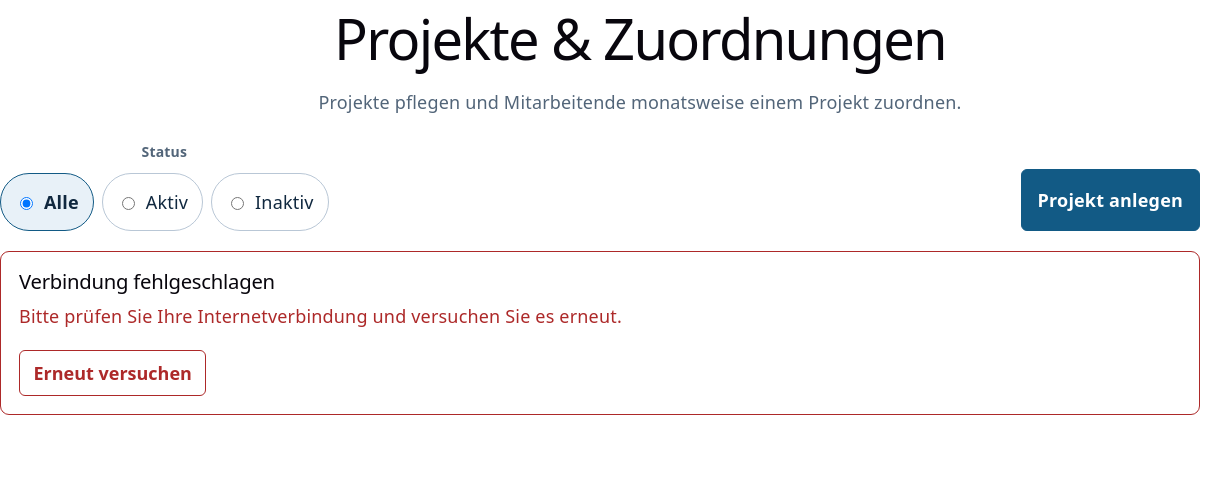
Test case: SP-08 — project list (real API source) › shows a safe, retryable error for a failed load
The image size is (1217, 478).
Expected: the message shows "Verbindung fehlgeschlagen", [19, 267, 275, 295]
Click the button "Erneut versuchen" at (113, 373), box [19, 350, 206, 396]
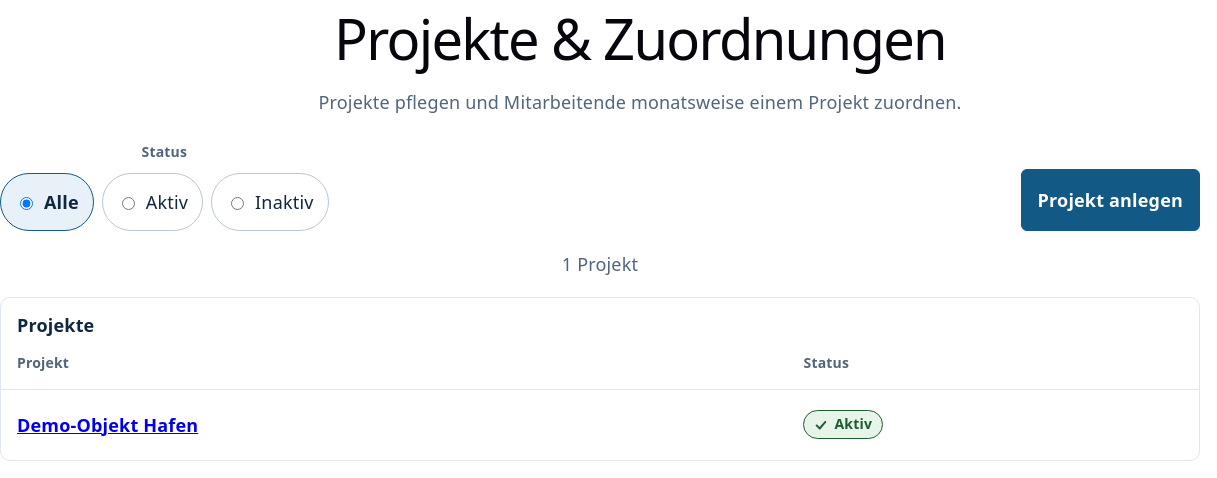
Expected: the link "Demo-Objekt Hafen" is shown, [17, 413, 198, 437]
